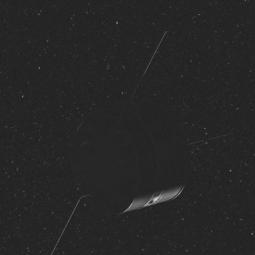double_start: (66, 95, 224, 213)
